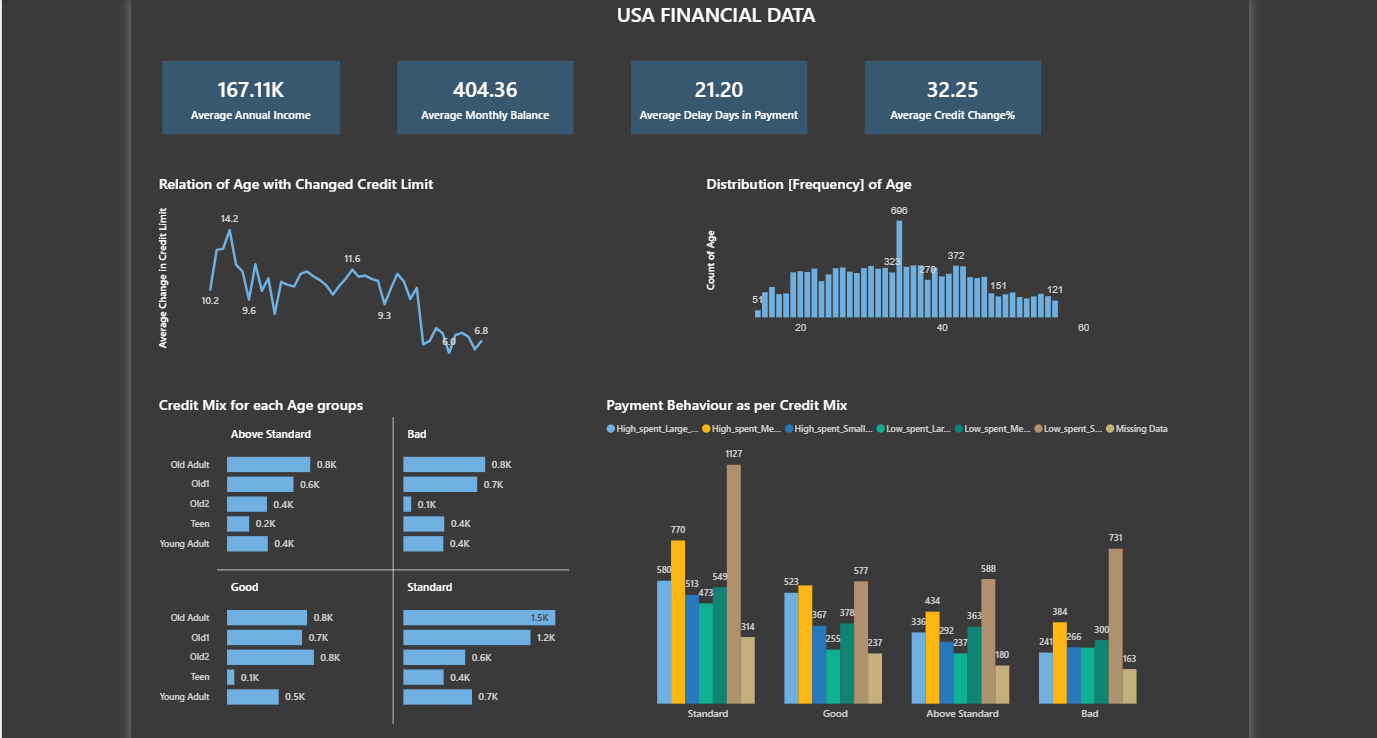

The dashboard page shown, as its layout file describes it:
{"tool":"powerbi","page":{"name":"Credit Insights","canvas":[1350,900],"ordinal":0},"visuals":[{"type":"card","fields":{"Values":["Avg(combined_df.Annual_Income)"]},"box":[37.7,76.9,214.1,89],"z":0},{"type":"card","fields":{"Values":["Avg(combined_df.Monthly_Balance)"]},"box":[321.2,76.9,212.6,89],"z":1000},{"type":"card","fields":{"Values":["Avg(combined_df.Delay_from_due_date)"]},"box":[603.2,76.9,212.6,89],"z":2000},{"type":"card","fields":{"Values":["Avg(combined_df.Credit_Utilization_Ratio)"]},"box":[885.2,76.9,212.6,89],"z":3000},{"type":"textbox","box":[533.8,0,351.4,45.2],"z":4000},{"type":"lineChart","title":"Relation of Age with Changed Credit Limit","fields":{"Category":["combined_df.Age"],"Y":["Avg(combined_df.Changed_Credit_Limit)"]},"box":[28.7,212.6,440.4,223.2],"z":5000},{"type":"clusteredColumnChart","title":"Distribution [Frequency] of Age ","fields":{"Category":["combined_df.Age"],"Y":["CountNonNull(combined_df.Age)"]},"box":[689.2,212.6,472,202.1],"z":6000},{"type":"clusteredBarChart","title":" Credit Mix for each Age groups  ","fields":{"Category":["combined_df.Age Groups "],"Y":["CountNonNull(combined_df.Age Groups )"],"Rows":["combined_df.Credit_Mix"]},"box":[28.7,479.6,505.2,402.6],"z":7000},{"type":"clusteredColumnChart","title":"Payment Behaviour as per Credit Mix","fields":{"Category":["combined_df.Credit_Mix"],"Y":["CountNonNull(combined_df.Payment_Behaviour)"],"Series":["combined_df.Payment_Behaviour"]},"box":[568.5,479.6,716.3,402.6],"z":8000}]}

Visuals, with their boxes on the page's 1350x900 design canvas (x1, y1, x2, y2). These are canvas units, not pixel positions in the 1377x738 screenshot, which may show the page scaled, cropped or inside an application window:
card - Avg(combined_df.Annual_Income): Rect(38, 77, 252, 166)
card - Avg(combined_df.Monthly_Balance): Rect(321, 77, 534, 166)
card - Avg(combined_df.Delay_from_due_date): Rect(603, 77, 816, 166)
card - Avg(combined_df.Credit_Utilization_Ratio): Rect(885, 77, 1098, 166)
textbox: Rect(534, 0, 885, 45)
"Relation of Age with Changed Credit Limit" lineChart: Rect(29, 213, 469, 436)
"Distribution [Frequency] of Age " clusteredColumnChart: Rect(689, 213, 1161, 415)
" Credit Mix for each Age groups  " clusteredBarChart: Rect(29, 480, 534, 882)
"Payment Behaviour as per Credit Mix" clusteredColumnChart: Rect(568, 480, 1285, 882)
